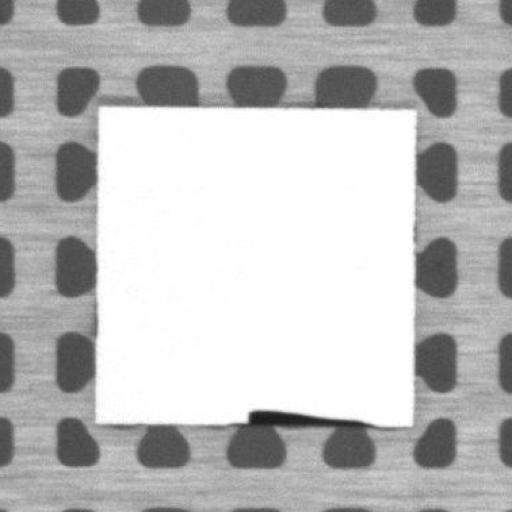DIE_BROKEN: (244, 402, 383, 430)
